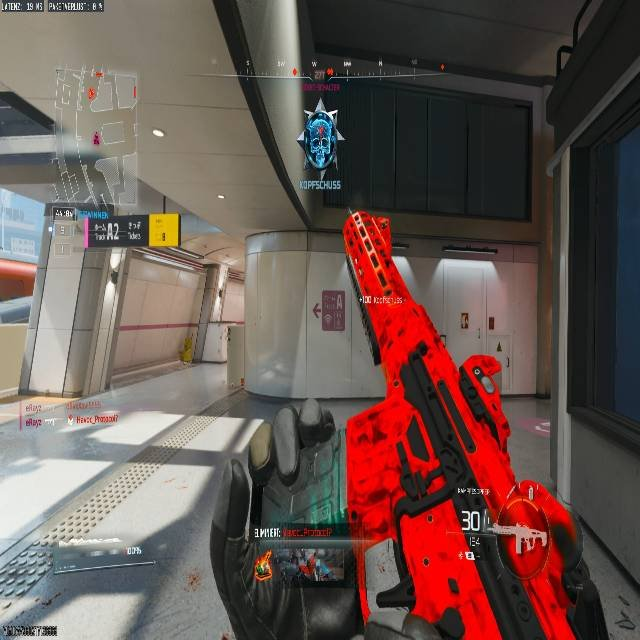player: (297, 96, 339, 175)
